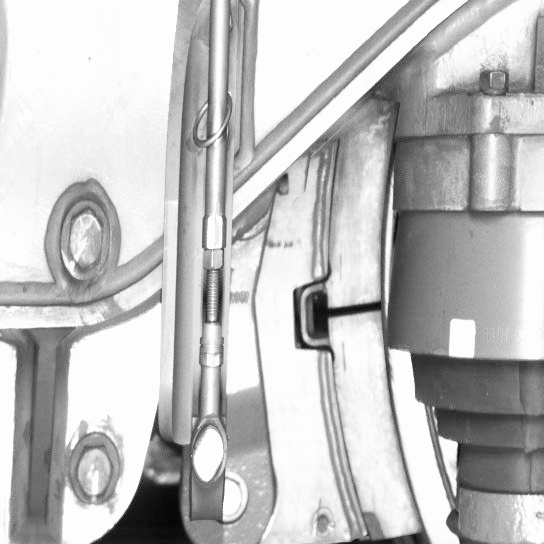ClosedKnifeSwitch: (313, 136, 440, 541)
